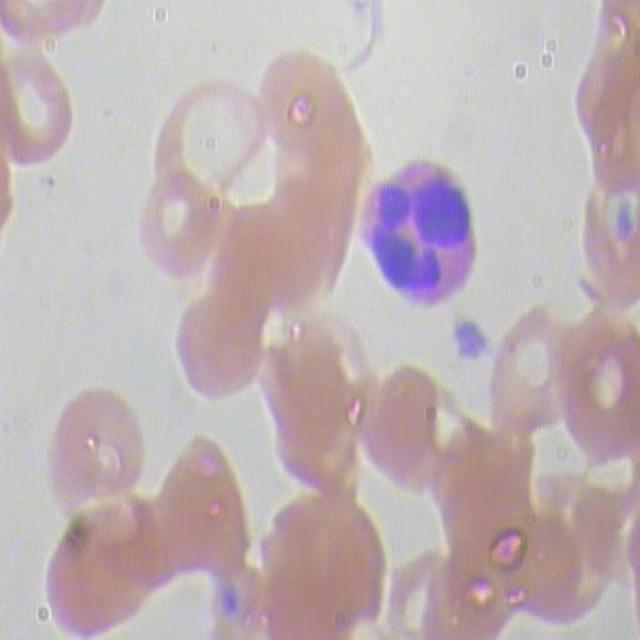Platelets: (449, 306, 500, 371)
RBC: (46, 496, 187, 639), (263, 486, 394, 638), (145, 67, 272, 220), (252, 44, 379, 197), (41, 379, 154, 532), (155, 422, 262, 582), (553, 284, 639, 475), (484, 308, 582, 451), (260, 328, 358, 471), (501, 496, 599, 639), (362, 359, 460, 501), (263, 183, 361, 325), (160, 289, 271, 412), (386, 536, 487, 639), (133, 165, 217, 287), (1, 56, 84, 177), (572, 172, 639, 319)
WBC: (348, 156, 484, 309)
